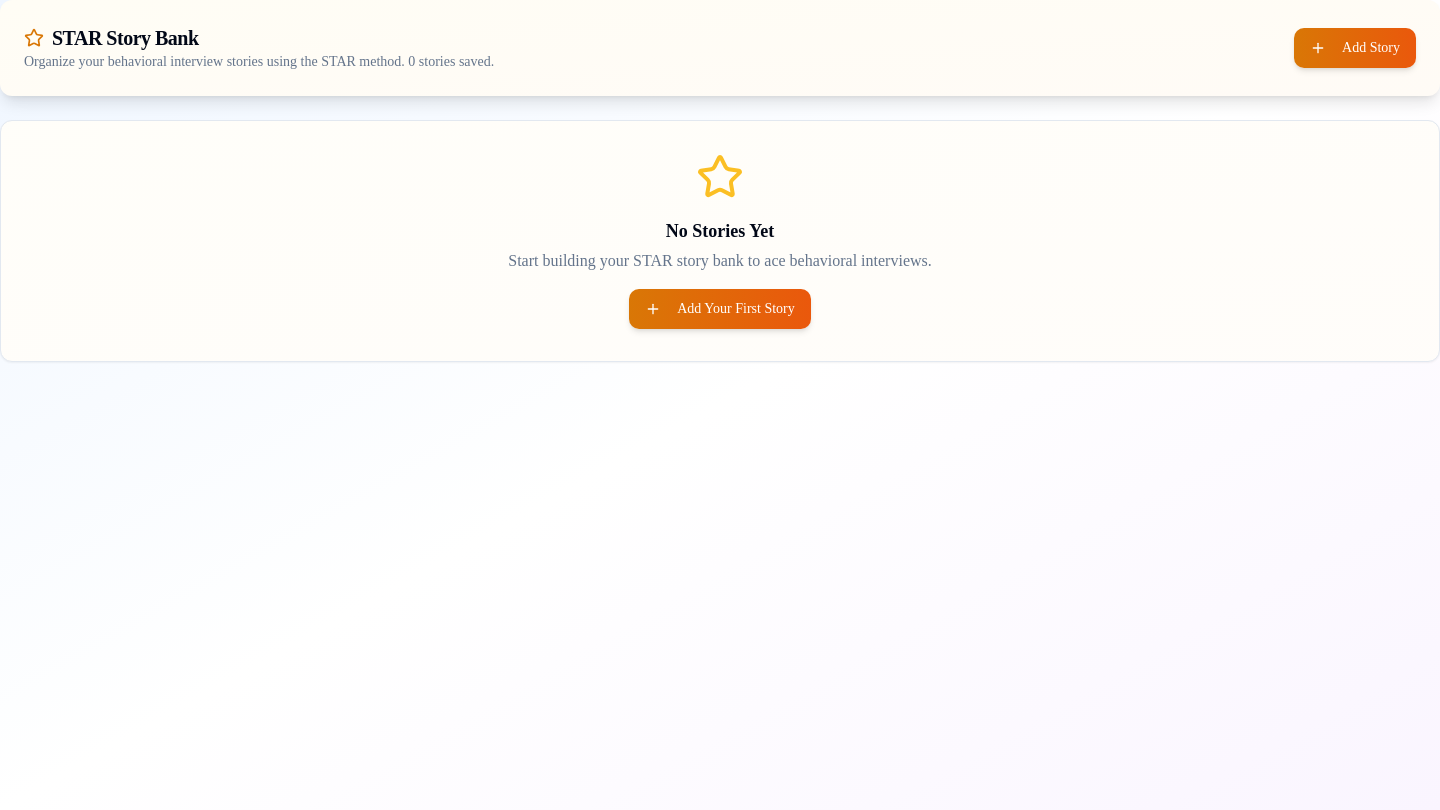
it: STARStoryBank › should open form when Add Story is clicked
The image size is (1440, 810).
Click the button "Add Your First Story": (720, 309) [629,289,811,329]
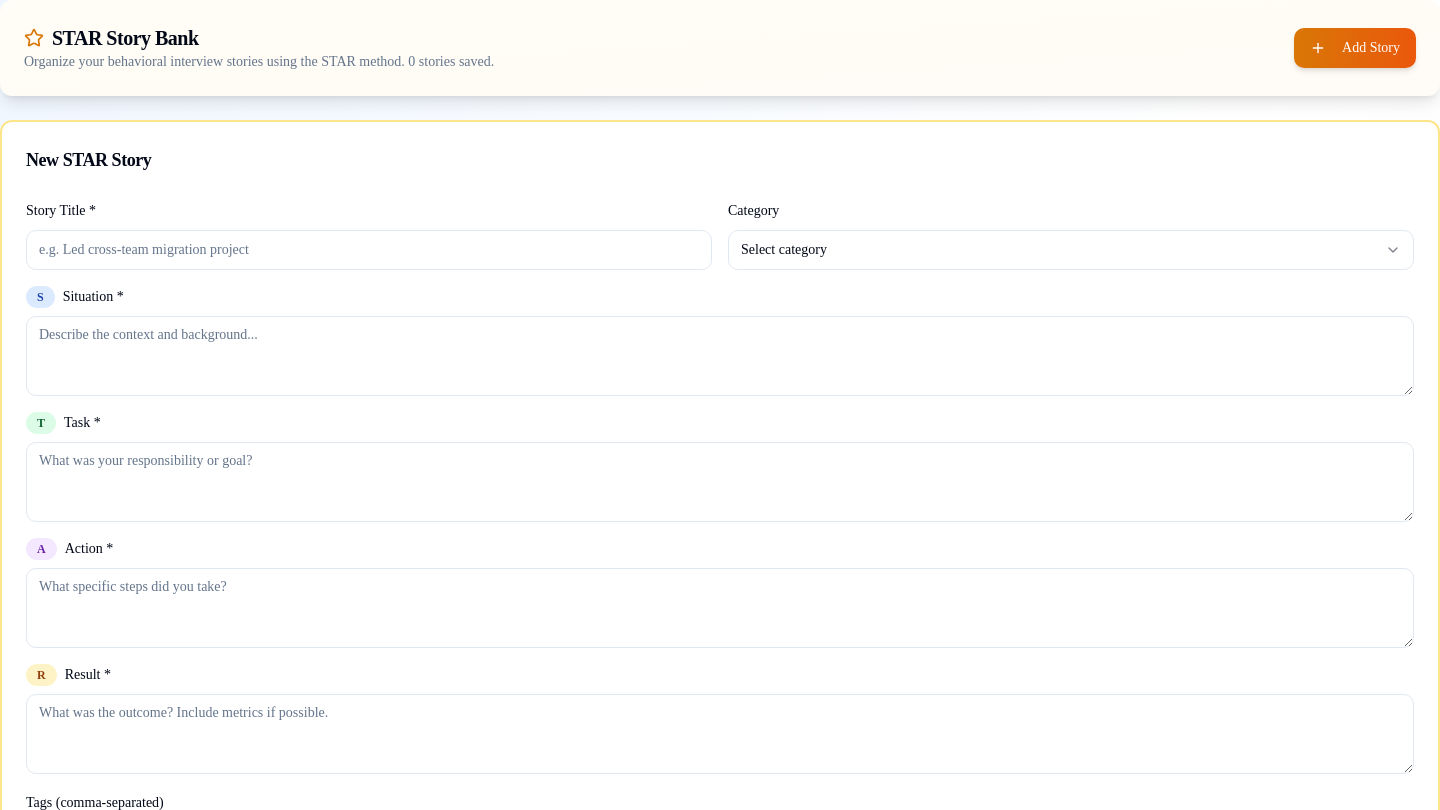
Result: the field with placeholder "e.g. Led cross-team migration project" is shown at [26,230,712,270]
